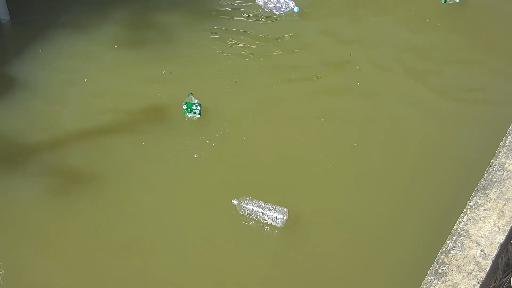plastic: (224, 190, 293, 237), (176, 88, 221, 132), (238, 0, 305, 16), (442, 0, 461, 6)
